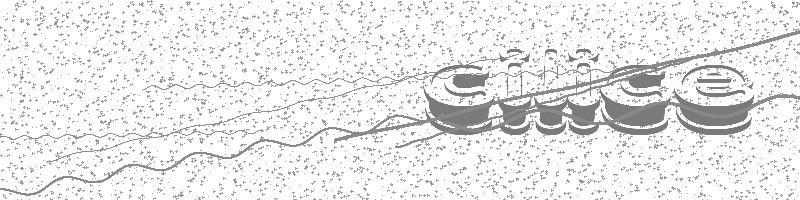c: (423, 62, 495, 136), (600, 63, 669, 137)
e: (673, 63, 754, 137)
i: (567, 45, 601, 136), (498, 48, 532, 136)
l: (534, 46, 566, 137)
